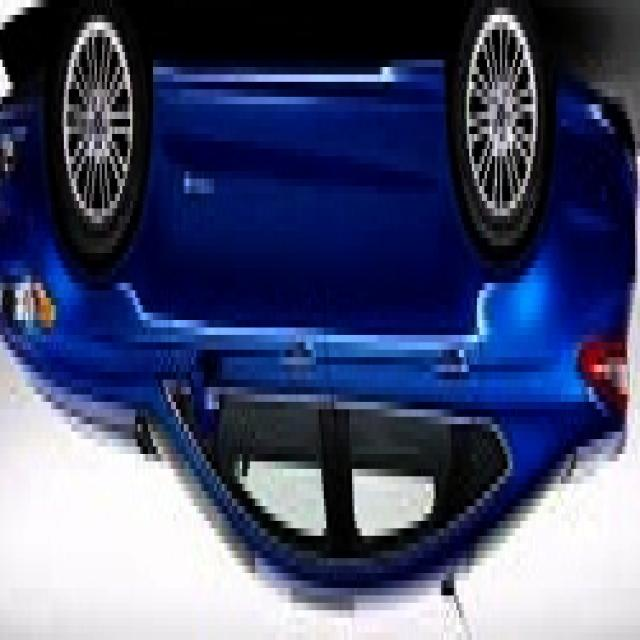blue: (0, 0, 635, 583)
